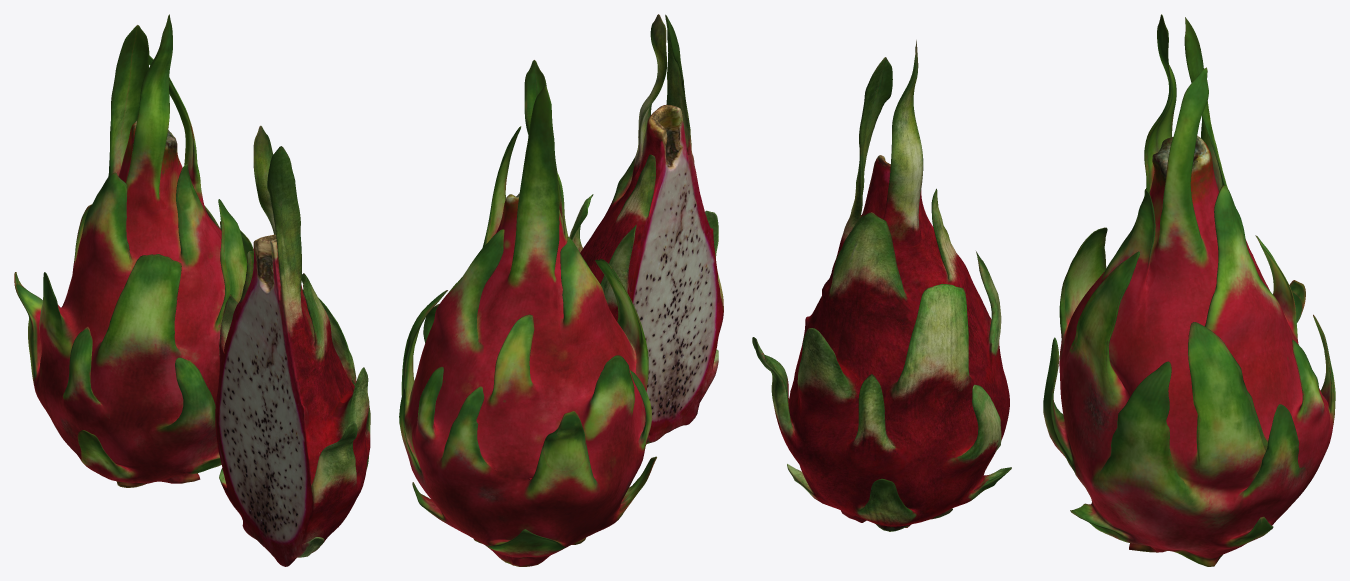
The model's file is pitaya.fbx.
3 renders of one model, left to right at view 1: azimuth 30°, elevation 25°; view 2: azimuth 150°, elevation 25°; view 3: azimuth 270°, elevation 25°, orthographic. The views are drawn at different scales.
Parts seen in each view (by area): view 1: pitaya, pitaya_cut; view 2: pitaya, pitaya_cut; view 3: pitaya, pitaya_cut.
Boxes of the visible parts, x1,y1,x2,y2 form: pitaya: (14, 14, 253, 487); pitaya_cut: (215, 125, 370, 566); pitaya: (399, 60, 656, 566); pitaya_cut: (569, 14, 723, 444); pitaya: (1043, 14, 1335, 566); pitaya_cut: (752, 40, 1011, 531).
Size of the model in its own units: 5.31 by 11.19 by 10.98.
